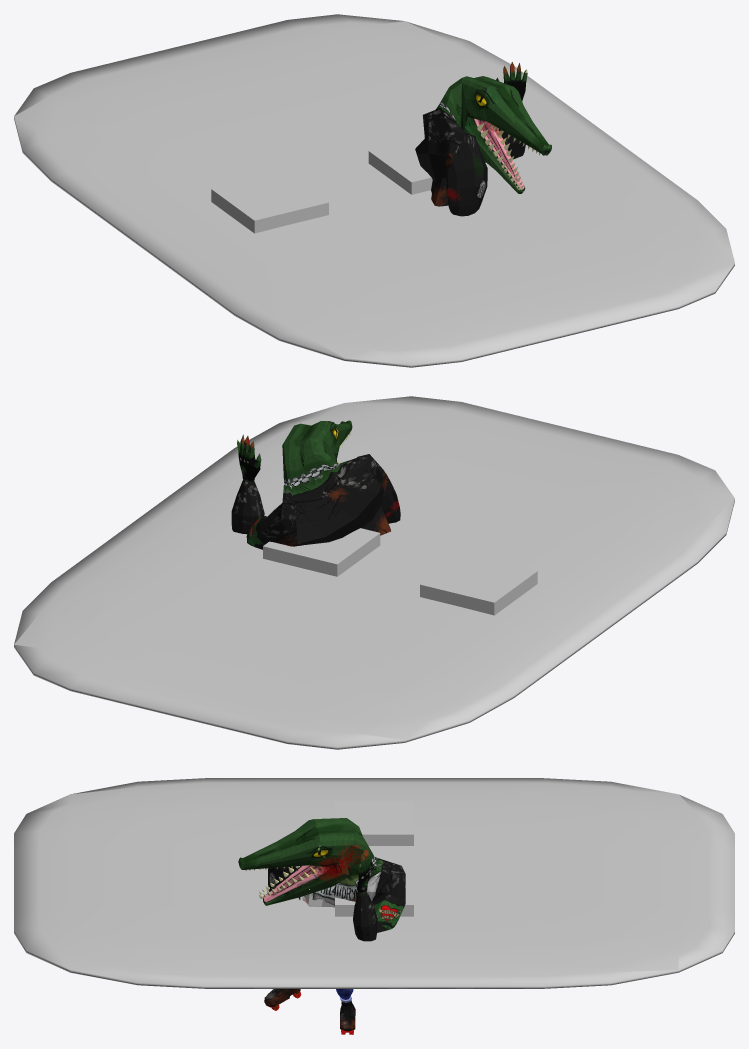
Rendered from cocodrilaBonesSelect_000018.obj.
3 renders of one model, top to bottom at view 1: azimuth 30°, elevation 25°; view 2: azimuth 150°, elevation 25°; view 3: azimuth 270°, elevation 25°, orthographic. The views are drawn at different scales.
Visible parts, largest first — view 1: Mball, Crocodile.002_Cylinder.002, Cube, Cube.001; view 2: Mball, Crocodile.002_Cylinder.002, Cube, Cube.001; view 3: Mball, Crocodile.002_Cylinder.002, Cube, Cube.001.
Boxes of the visible parts, bbox=[...] form: Mball: bbox=[14, 14, 734, 367]; Crocodile.002_Cylinder.002: bbox=[415, 62, 551, 216]; Cube: bbox=[211, 171, 328, 233]; Cube.001: bbox=[368, 137, 432, 194]; Mball: bbox=[14, 396, 734, 749]; Crocodile.002_Cylinder.002: bbox=[231, 420, 400, 549]; Cube: bbox=[420, 553, 537, 615]; Cube.001: bbox=[263, 528, 380, 576]; Mball: bbox=[14, 778, 734, 988]; Crocodile.002_Cylinder.002: bbox=[238, 818, 405, 1034]; Cube: bbox=[335, 801, 413, 845]; Cube.001: bbox=[335, 871, 413, 916].
Bounding box in the file's own units: 12.42 × 6.17 × 18.18.
